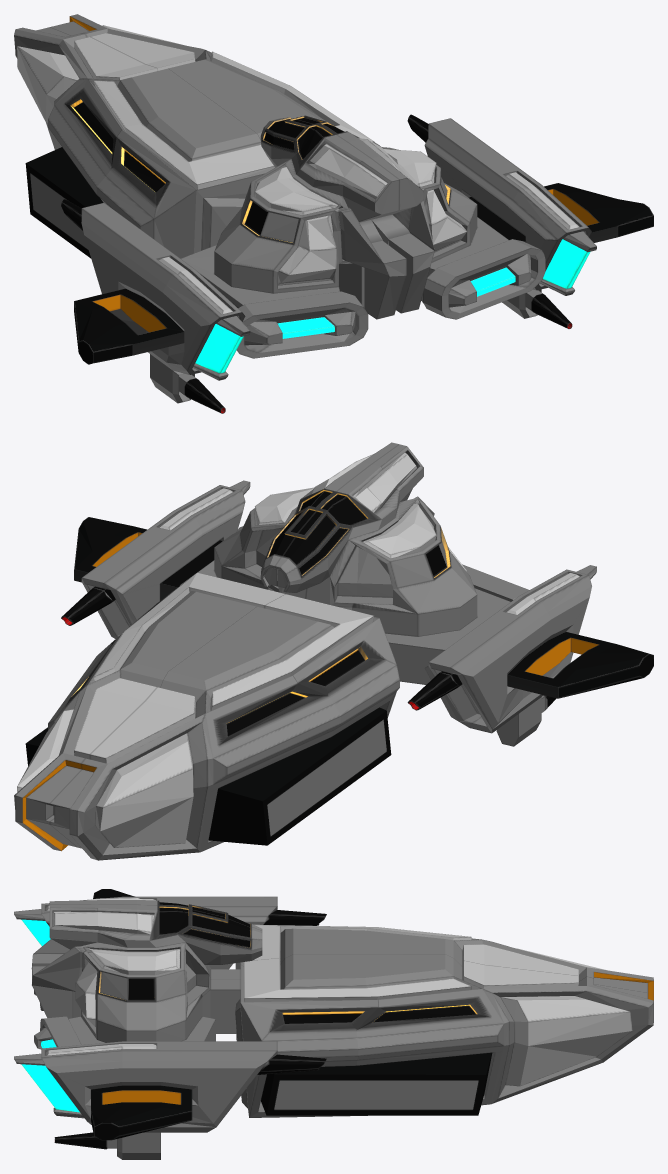
Rendered from Creon.fbx.
3 views of the same model, one above another, from view 1: azimuth 30°, elevation 25°; view 2: azimuth 150°, elevation 25°; view 3: azimuth 270°, elevation 25° (orthographic). The views are drawn at different scales.
Parts seen in each view (by area): view 1: Cube; view 2: Cube; view 3: Cube.
Boxes of the visible parts, x1,y1,x2,y2 form: Cube: (14,14,653,413); Cube: (14,442,653,860); Cube: (14,889,653,1159).
Size of the model in its own units: 1710 by 617 by 1976.
Materials: 1 (1 with a texture image).
